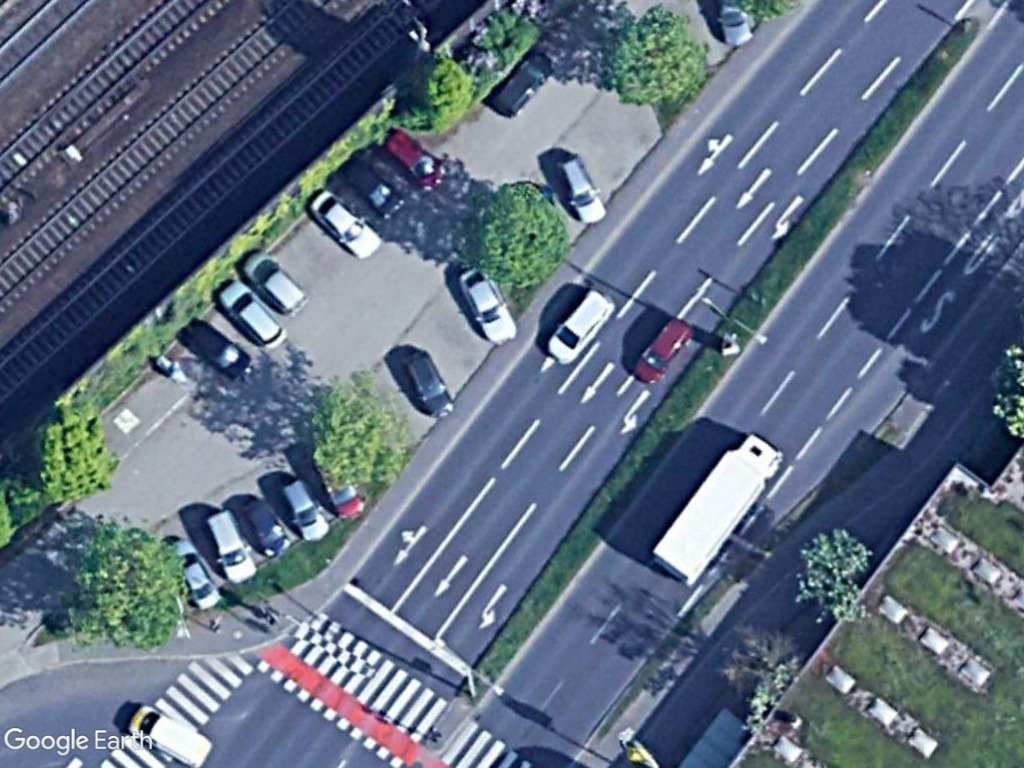car: (544, 286, 619, 369), (307, 190, 387, 263), (624, 312, 699, 389), (209, 279, 288, 350), (456, 260, 520, 346), (239, 246, 311, 320), (376, 124, 448, 191), (179, 316, 254, 380), (200, 507, 258, 586), (279, 473, 336, 544), (344, 159, 410, 220), (403, 349, 457, 421), (557, 152, 606, 225), (240, 493, 291, 560)
truck: (652, 431, 782, 587)
